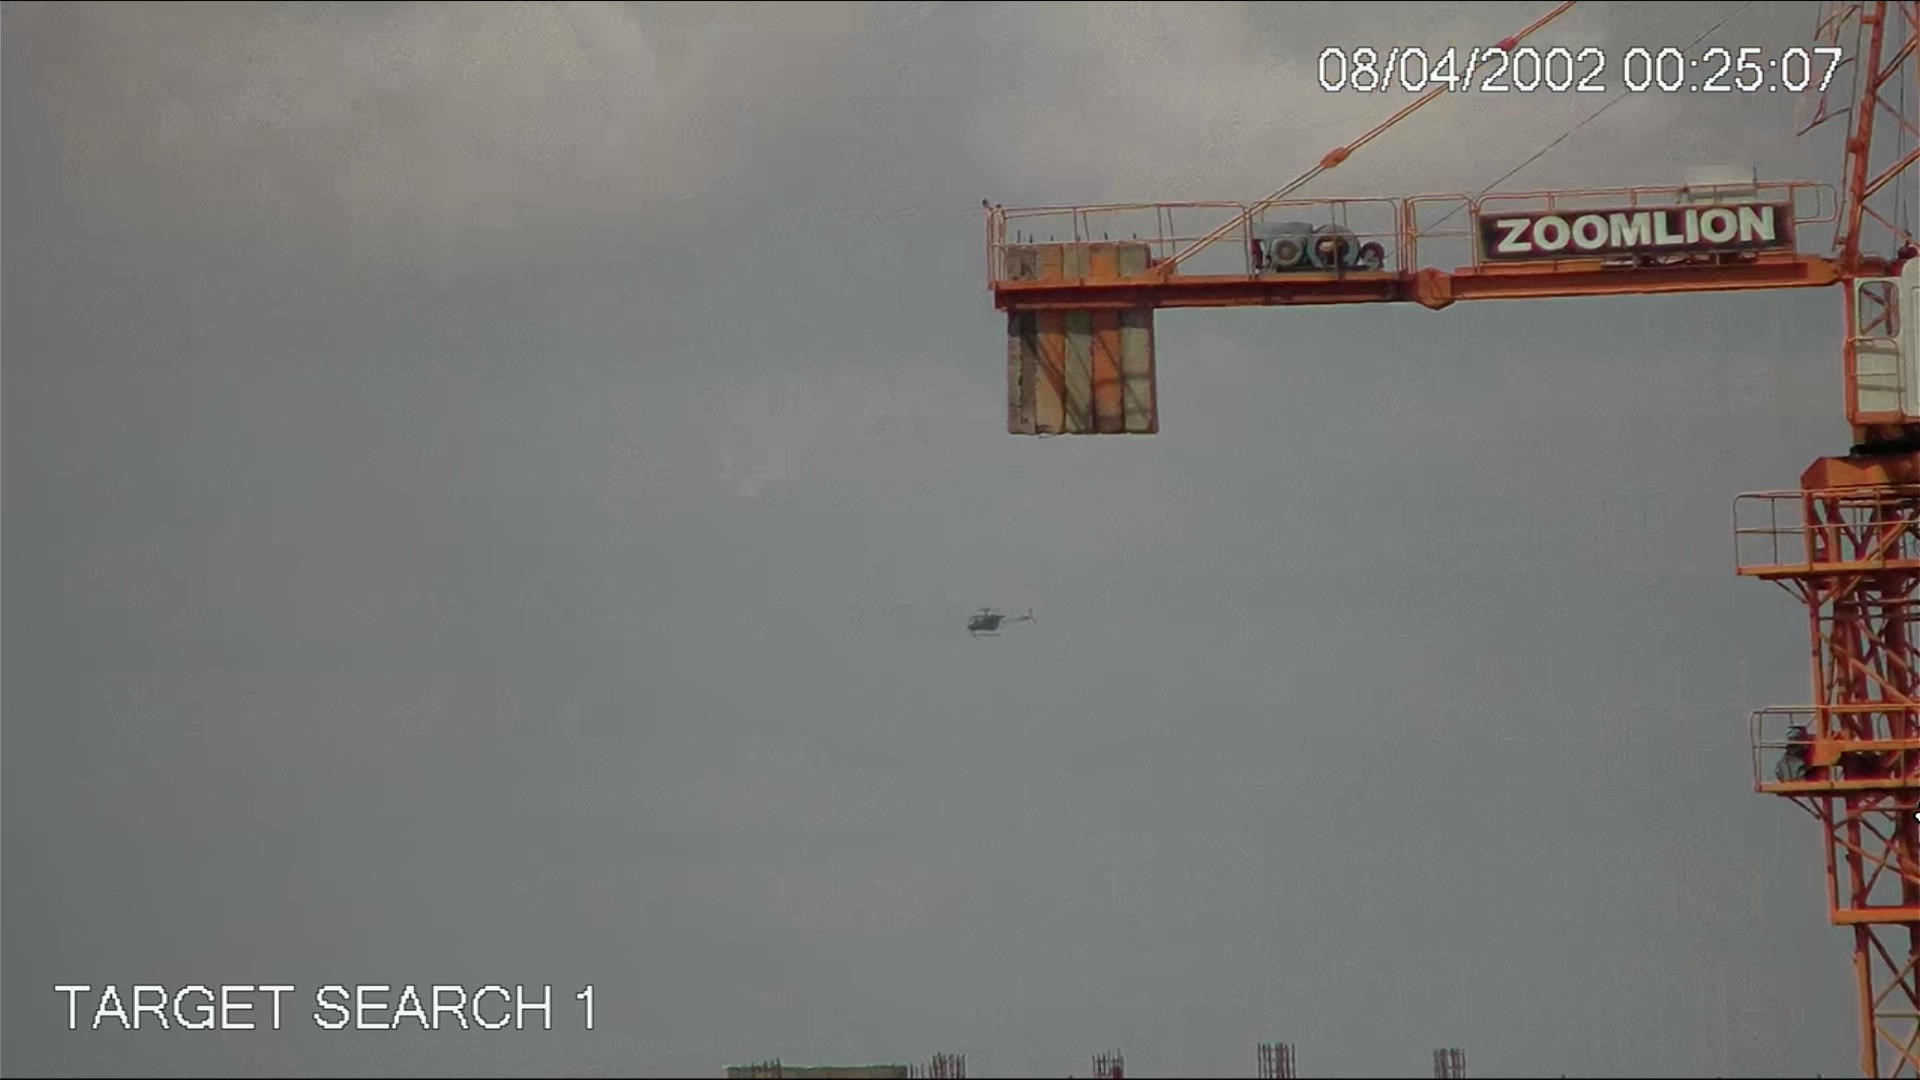SU_30: (967, 604, 1036, 638)
